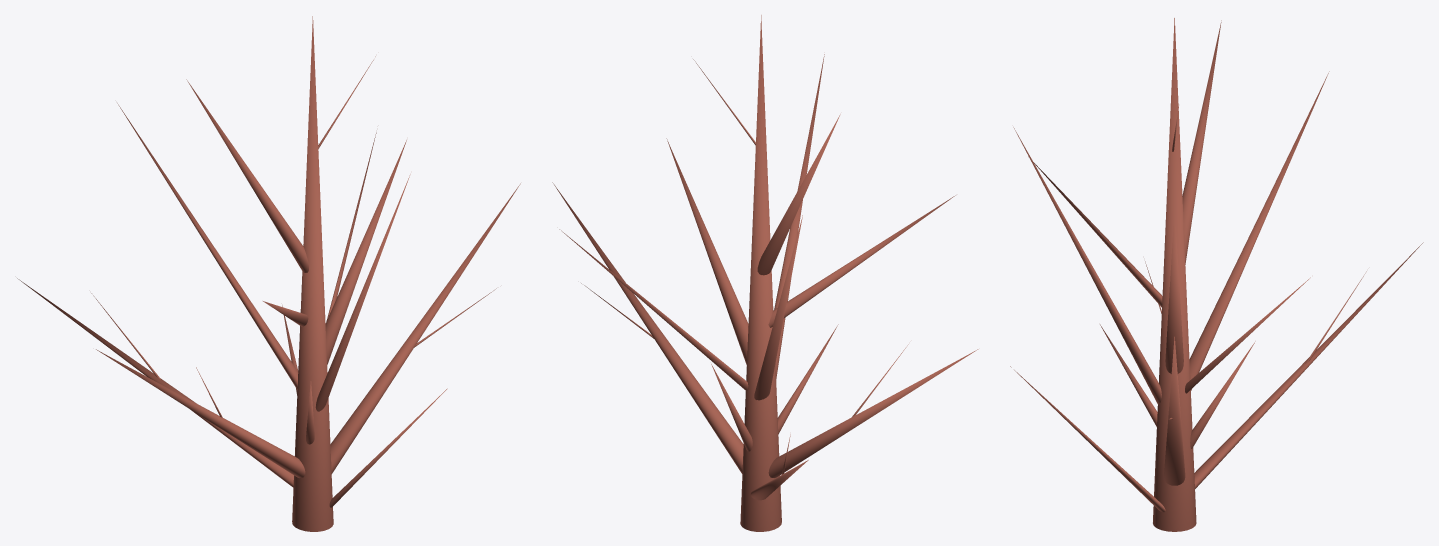
File: spiked_red_coral.glb
The picture shows the model from 3 angles, left to right: view 1: azimuth 30°, elevation 25°; view 2: azimuth 150°, elevation 25°; view 3: azimuth 270°, elevation 25°; orthographic projection.
Parts seen in each view (by area): view 1: pCone1, pCone6, pCone10, pCone2, pCone7, pCone3, pCone11, pCone8, pCone12; view 2: pCone1, pCone6, pCone10, pCone2, pCone7, pCone3, pCone9, pCone8, pCone16, pCone4, pCone5, pCone11; view 3: pCone1, pCone7, pCone11, pCone8, pCone3, pCone6, pCone2, pCone9, pCone12, pCone16, pCone5, pCone4.
Boxes of the visible parts, <box> form: pCone1: <box>292,16,333,531</box>; pCone6: <box>330,183,520,473</box>; pCone10: <box>96,349,305,477</box>; pCone2: <box>325,140,406,364</box>; pCone7: <box>117,103,298,389</box>; pCone3: <box>186,79,308,272</box>; pCone11: <box>17,278,293,487</box>; pCone8: <box>315,174,410,411</box>; pCone12: <box>329,388,447,507</box>; pCone1: <box>740,15,781,531</box>; pCone6: <box>552,182,743,473</box>; pCone10: <box>768,349,978,477</box>; pCone2: <box>666,138,748,365</box>; pCone7: <box>754,215,802,400</box>; pCone3: <box>757,114,840,275</box>; pCone9: <box>768,195,955,327</box>; pCone8: <box>774,54,824,379</box>; pCone16: <box>559,229,748,391</box>; pCone4: <box>777,324,838,434</box>; pCone5: <box>711,364,752,451</box>; pCone11: <box>750,460,808,500</box>; pCone1: <box>1153,18,1196,531</box>; pCone7: <box>1189,71,1329,390</box>; pCone11: <box>1194,242,1423,488</box>; pCone8: <box>1013,127,1161,404</box>; pCone3: <box>1182,20,1221,264</box>; pCone6: <box>1164,336,1185,485</box>; pCone2: <box>1165,209,1183,373</box>; pCone9: <box>1028,156,1162,307</box>; pCone12: <box>1010,366,1165,512</box>; pCone16: <box>1185,277,1310,393</box>; pCone5: <box>1190,341,1255,448</box>; pCone4: <box>1100,324,1157,426</box>.
Size of the model in its own units: 0.0882 by 0.1 by 0.074.
